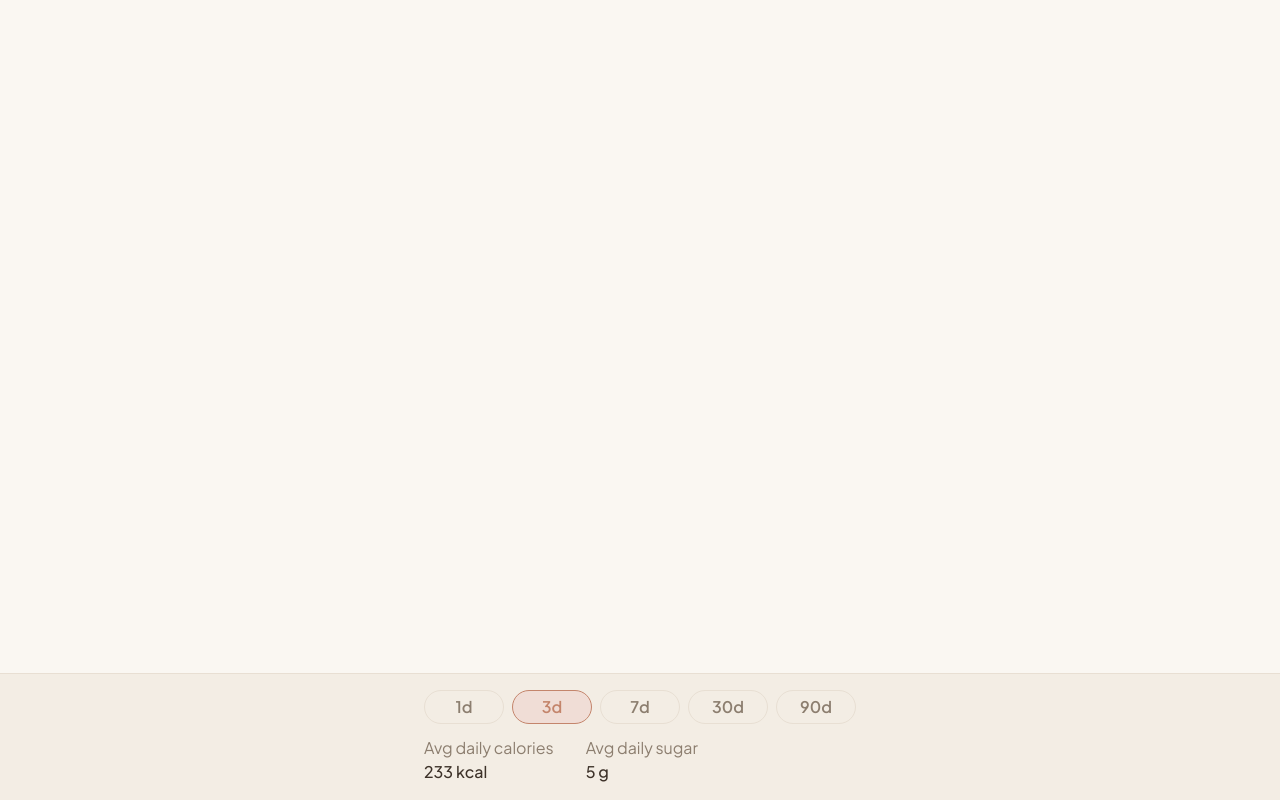
InsightsPanel › updates values when pill selection changes
Click the tab "7d". click: (640, 707)
box: top-left (600, 690), bottom-right (680, 724)
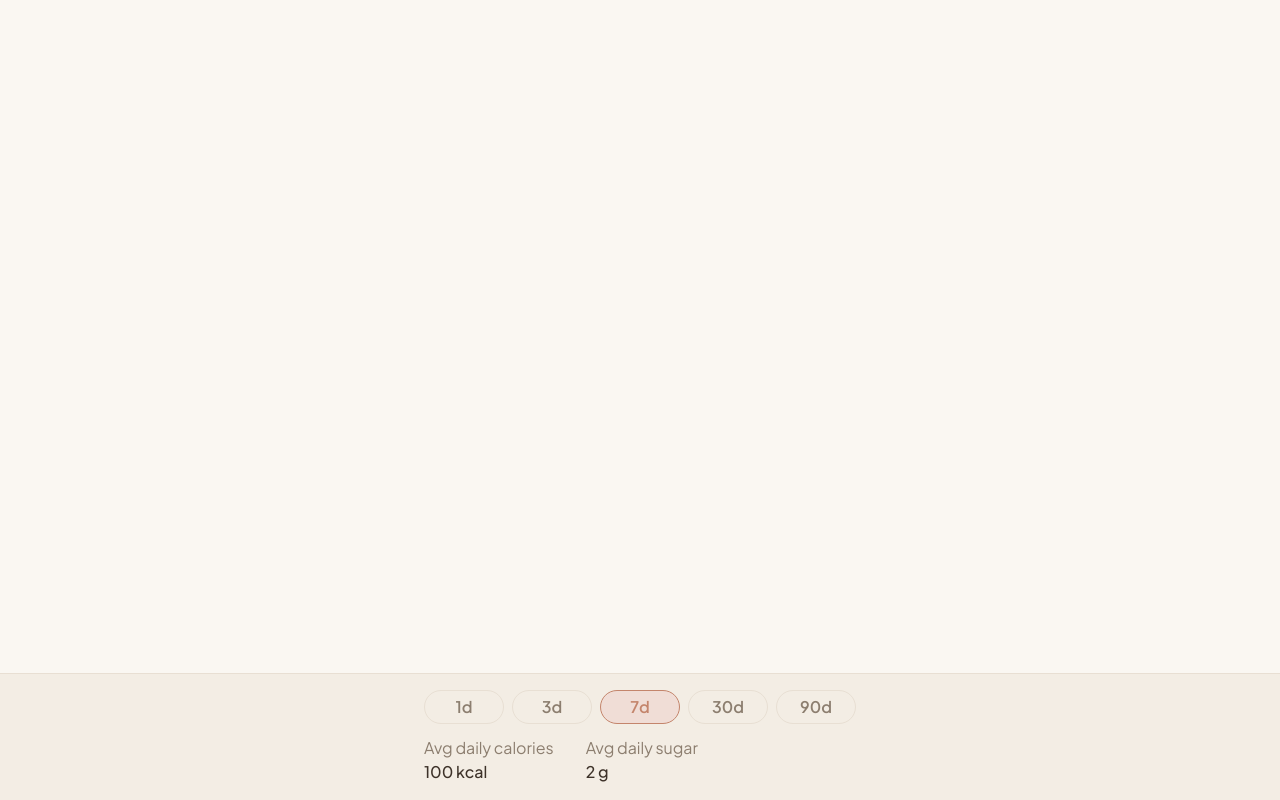
Expected: the text "100 kcal" is shown, top-left (424, 761), bottom-right (487, 782)
